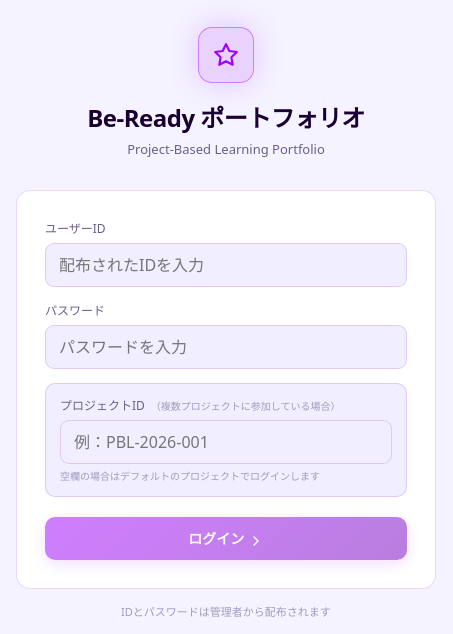
it: App - ログイン画面（未認証） › ID とパスワードを両方入力するとログインボタンが enabled になる
The image size is (453, 634).
Type "user001" into the field with placeholder "配布されたIDを入力". click: [226, 265]
box: 45,243 -> 407,287
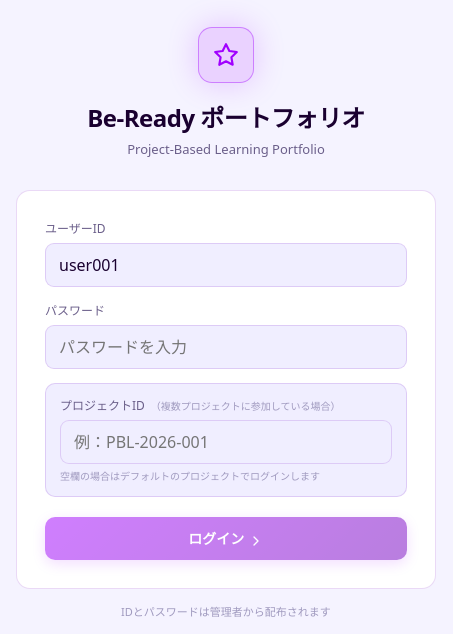
Type "password123" into the password field with placeholder "パスワードを入力". click: [226, 347]
box: 45,325 -> 407,369
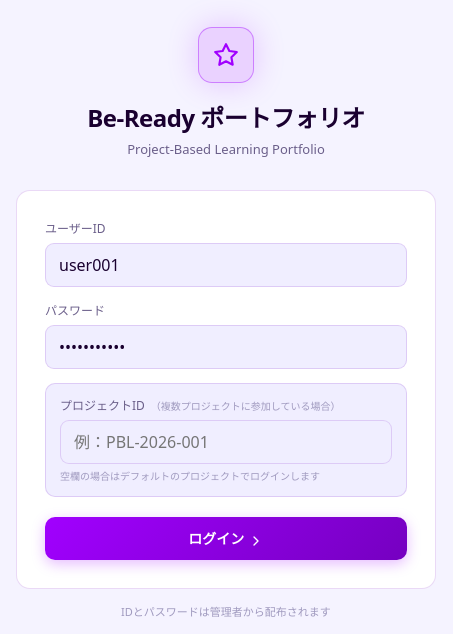
Result: the button "ログイン" is enabled at 45,517 -> 407,560
